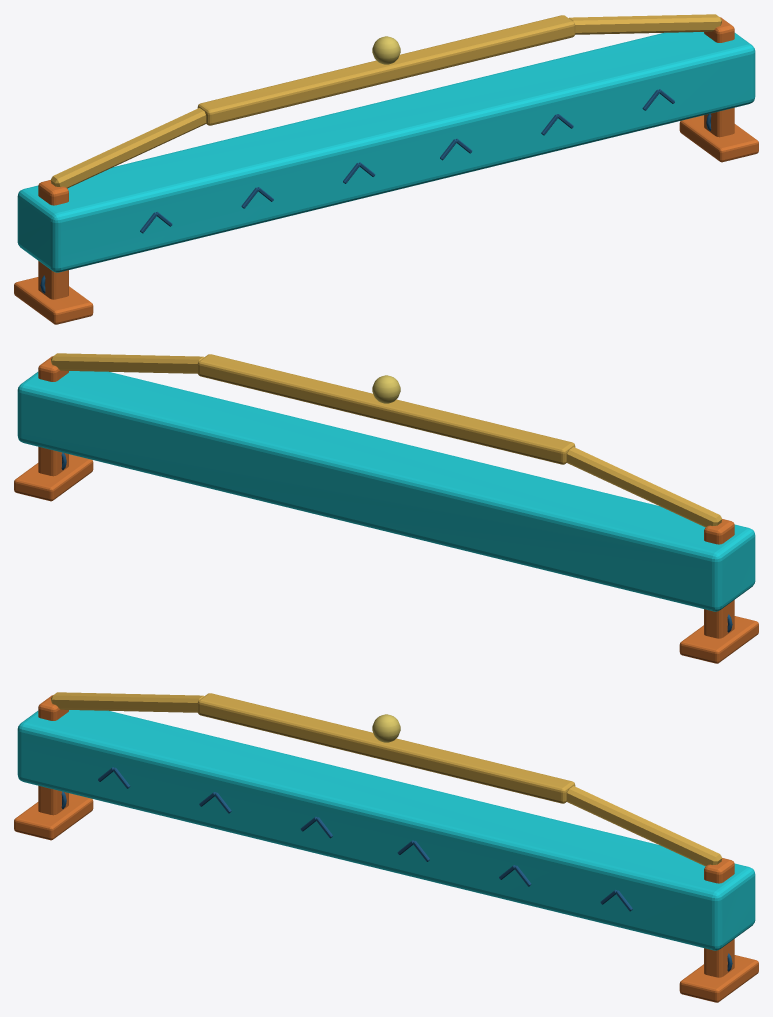
File: glacier_duck_gate_v1.glb
The picture shows the model from 3 angles, top to bottom: view 1: azimuth 30°, elevation 25°; view 2: azimuth 150°, elevation 25°; view 3: azimuth 330°, elevation 25°; orthographic projection.
Visible parts, largest first — view 1: glacier_duck_gate_v1; view 2: glacier_duck_gate_v1; view 3: glacier_duck_gate_v1.
Boxes of the visible parts, bbox=[...] form: glacier_duck_gate_v1: bbox=[14, 14, 758, 324]; glacier_duck_gate_v1: bbox=[14, 353, 758, 663]; glacier_duck_gate_v1: bbox=[14, 692, 758, 1002].
Size of the model in its own units: 16 by 4.06 by 1.69.
